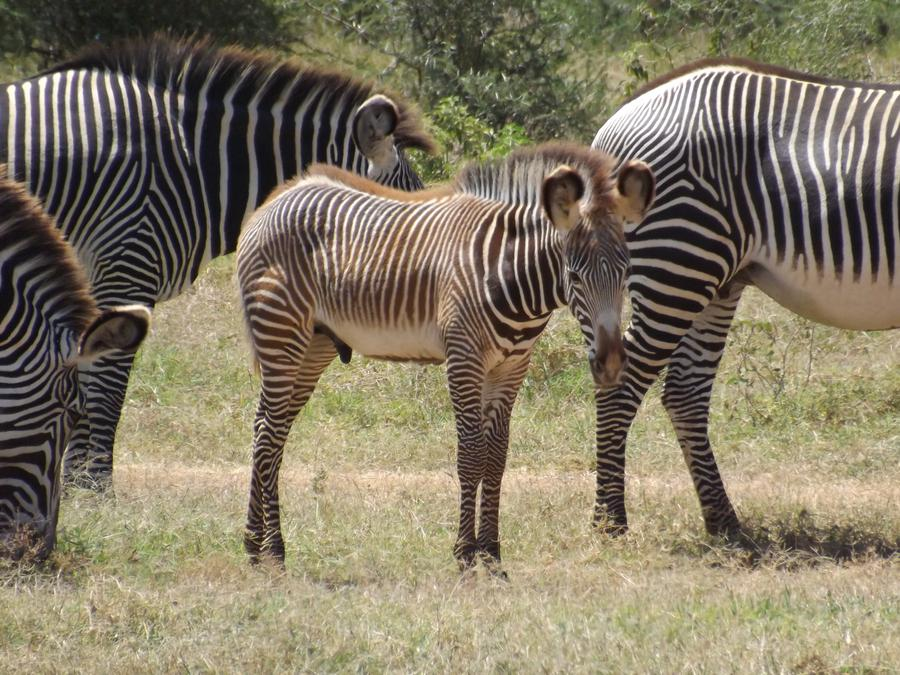zebra_grevys: (237, 144, 507, 369)
